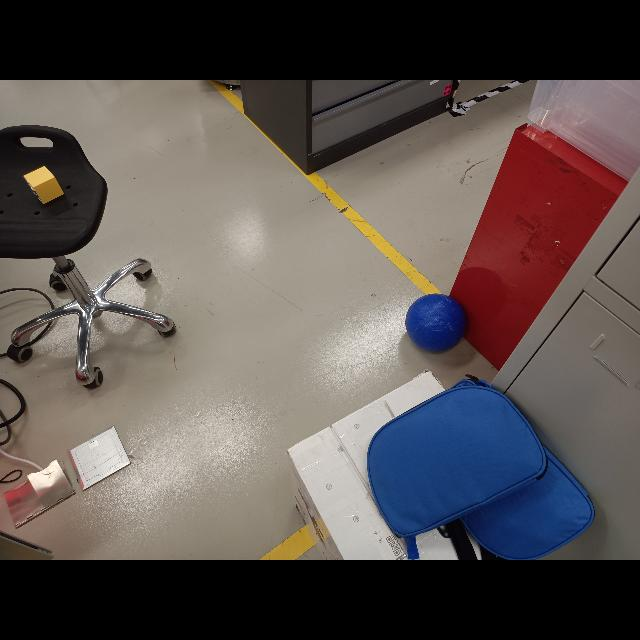B: (404, 293, 468, 353)
